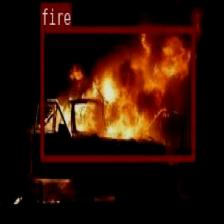fire: (39, 26, 195, 160)
